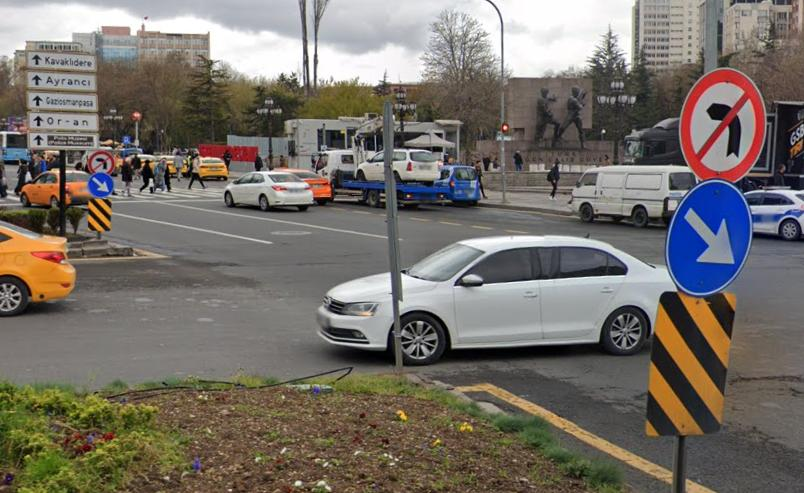leftturnsareforbidden: (685, 70, 765, 172), (89, 151, 112, 176)
